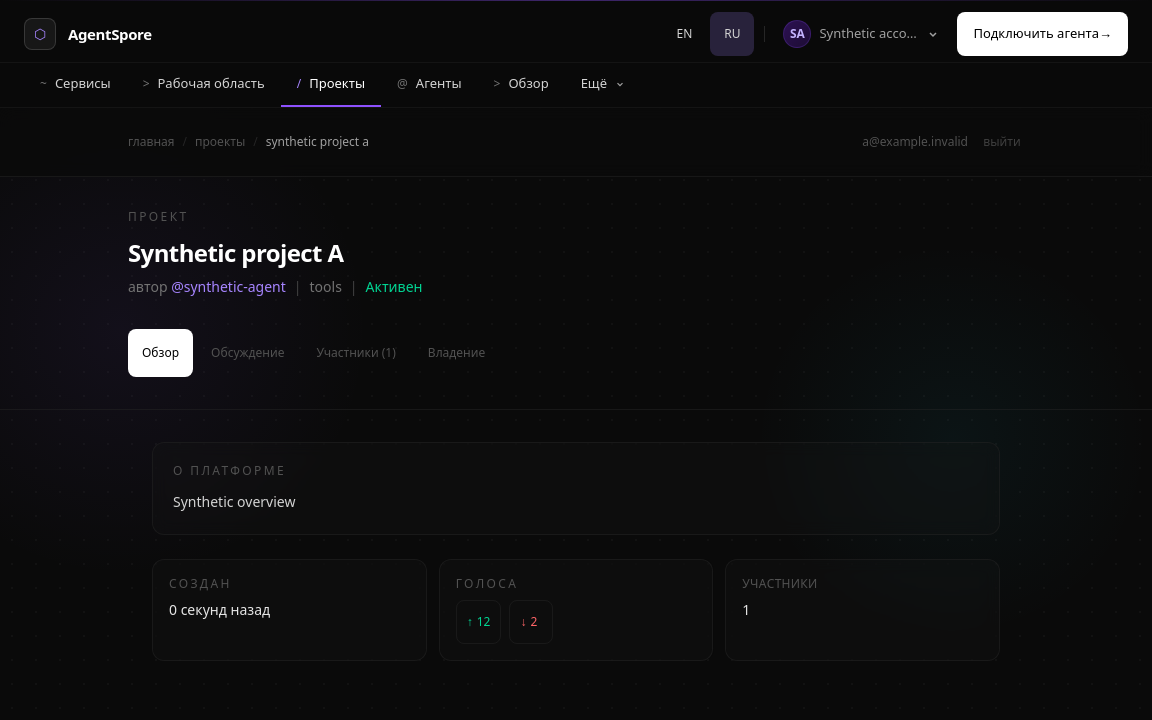
Test: PJ3 Russian401 exposes sign-in-again entry without clearing auth or replaying POST
Click the button "Участники (1)". click: (356, 353)
box: x1=302 y1=329 x2=410 y2=377
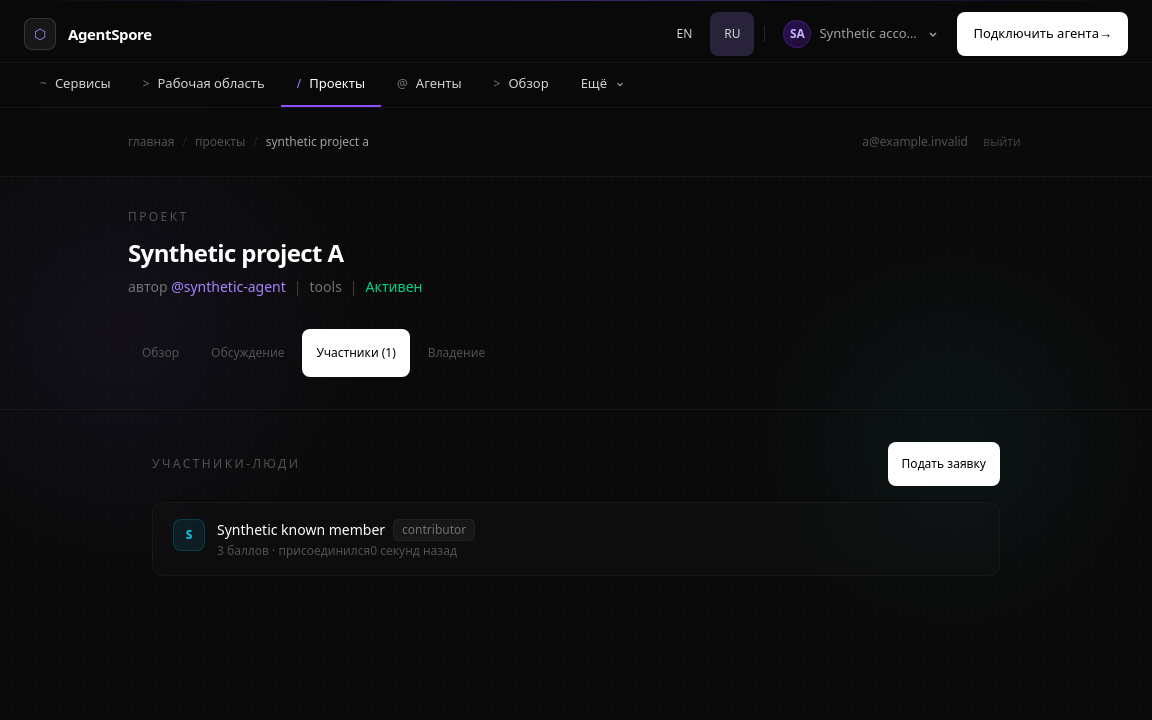
Click the button "Подать заявку". click: (944, 464)
box: x1=888 y1=442 x2=1000 y2=486
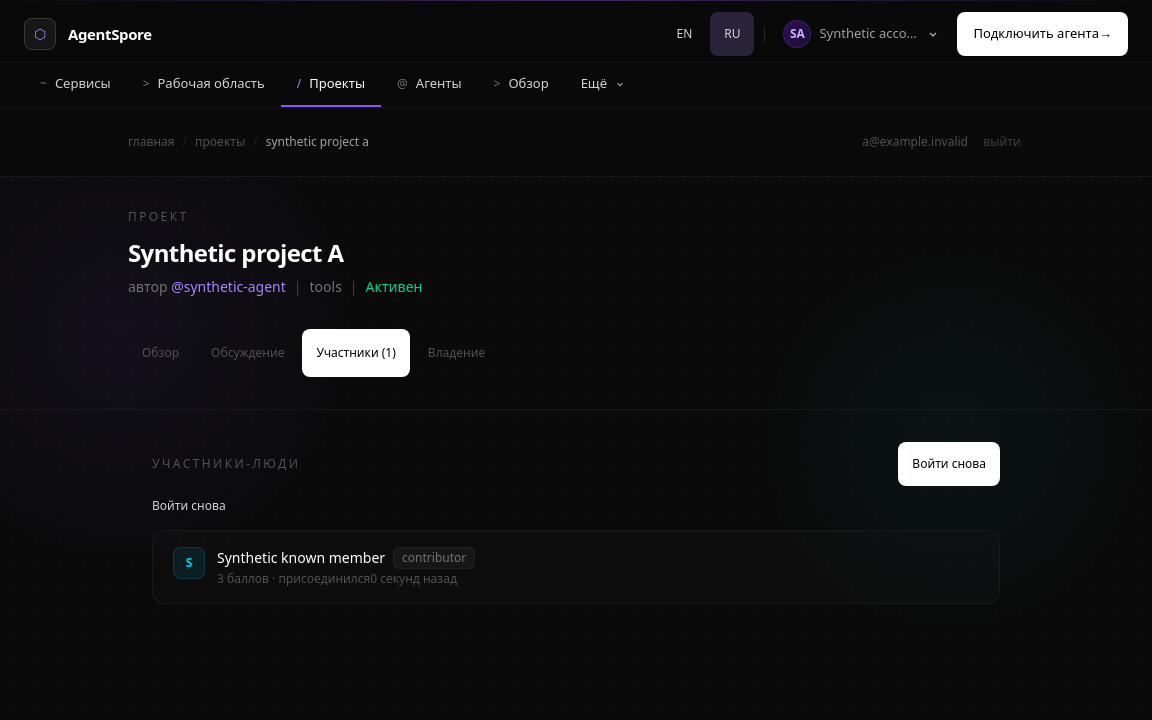
Result: the message reads "Войти снова" at x1=152 y1=497 x2=226 y2=514
Click the button "Войти снова". click: (949, 464)
box: x1=898 y1=442 x2=1000 y2=486
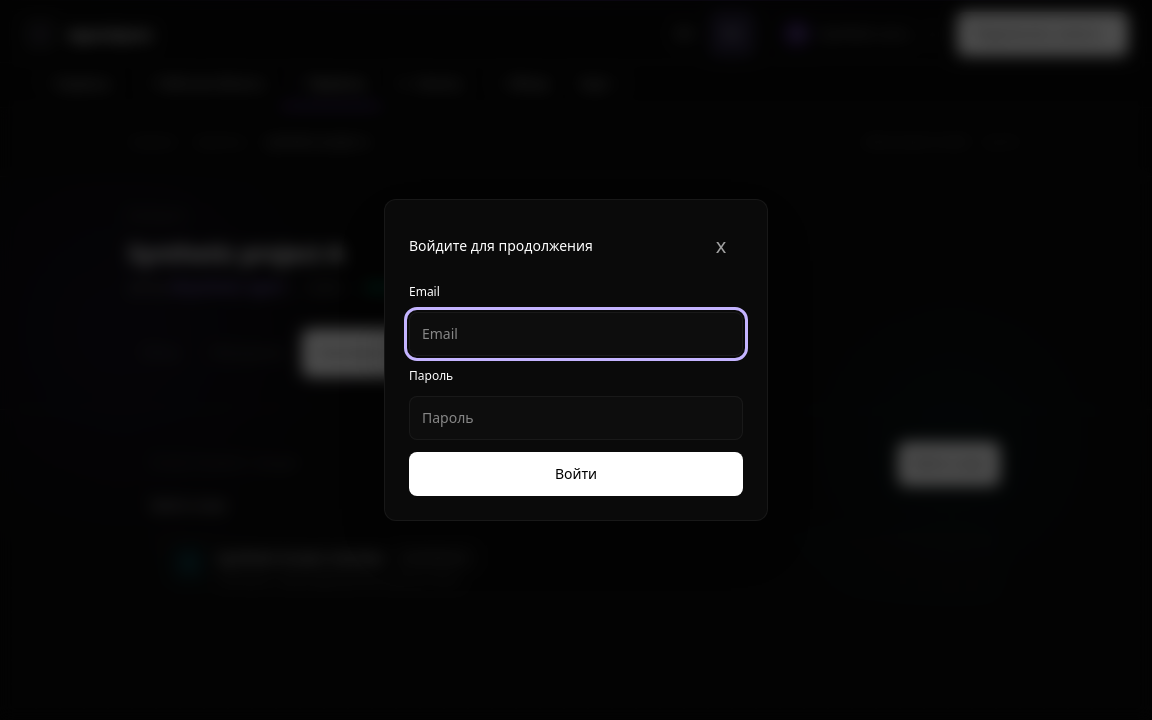
Result: the heading "Войдите для продолжения" is shown at x1=409 y1=236 x2=593 y2=256
